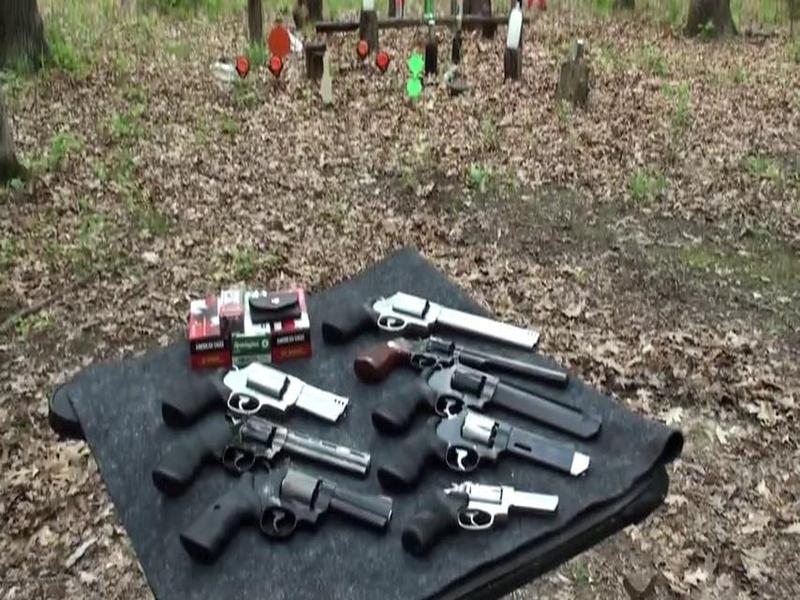Revolver: (347, 279, 557, 363)
